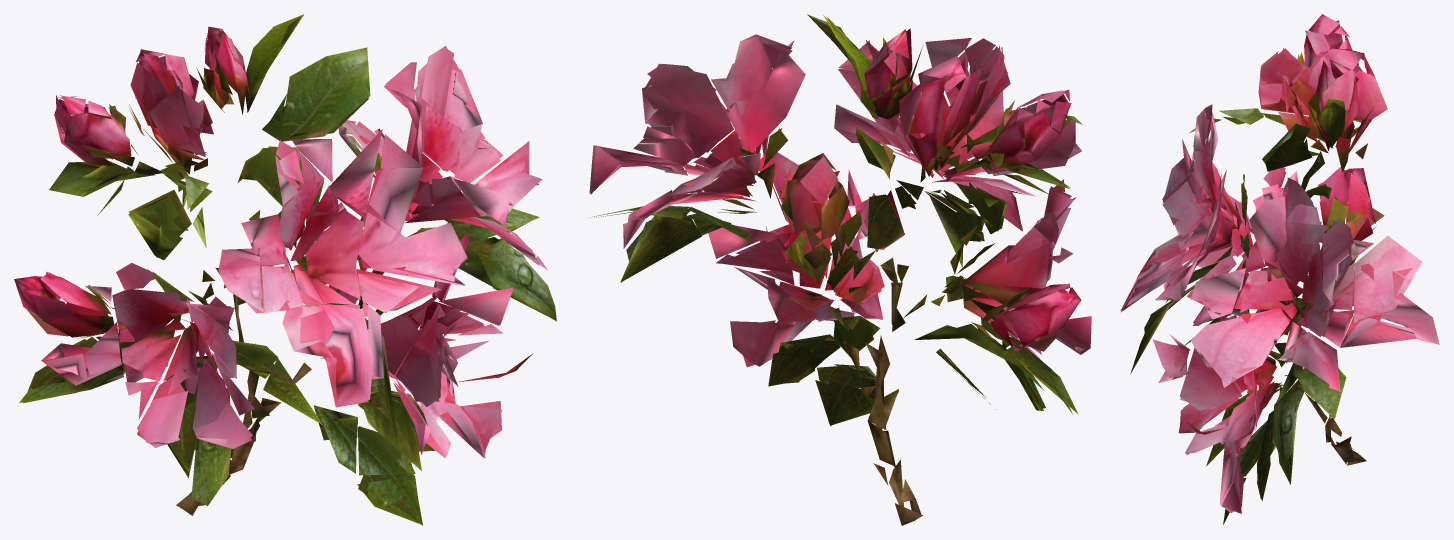
The model's file is azalea.glb.
3 renders of one model, left to right at view 1: azimuth 30°, elevation 25°; view 2: azimuth 150°, elevation 25°; view 3: azimuth 270°, elevation 25°, orthographic. The views are drawn at different scales.
Visible parts, largest first — view 1: AzaleaFar; view 2: AzaleaFar; view 3: AzaleaFar.
Part boxes in pixels (<box>): AzaleaFar: <box>14,14,556,525</box>; AzaleaFar: <box>589,14,1091,525</box>; AzaleaFar: <box>1120,14,1439,524</box>.
Size of the model in its own units: 1.08 by 0.9863 by 0.6911.
1 material, 1 textured.
